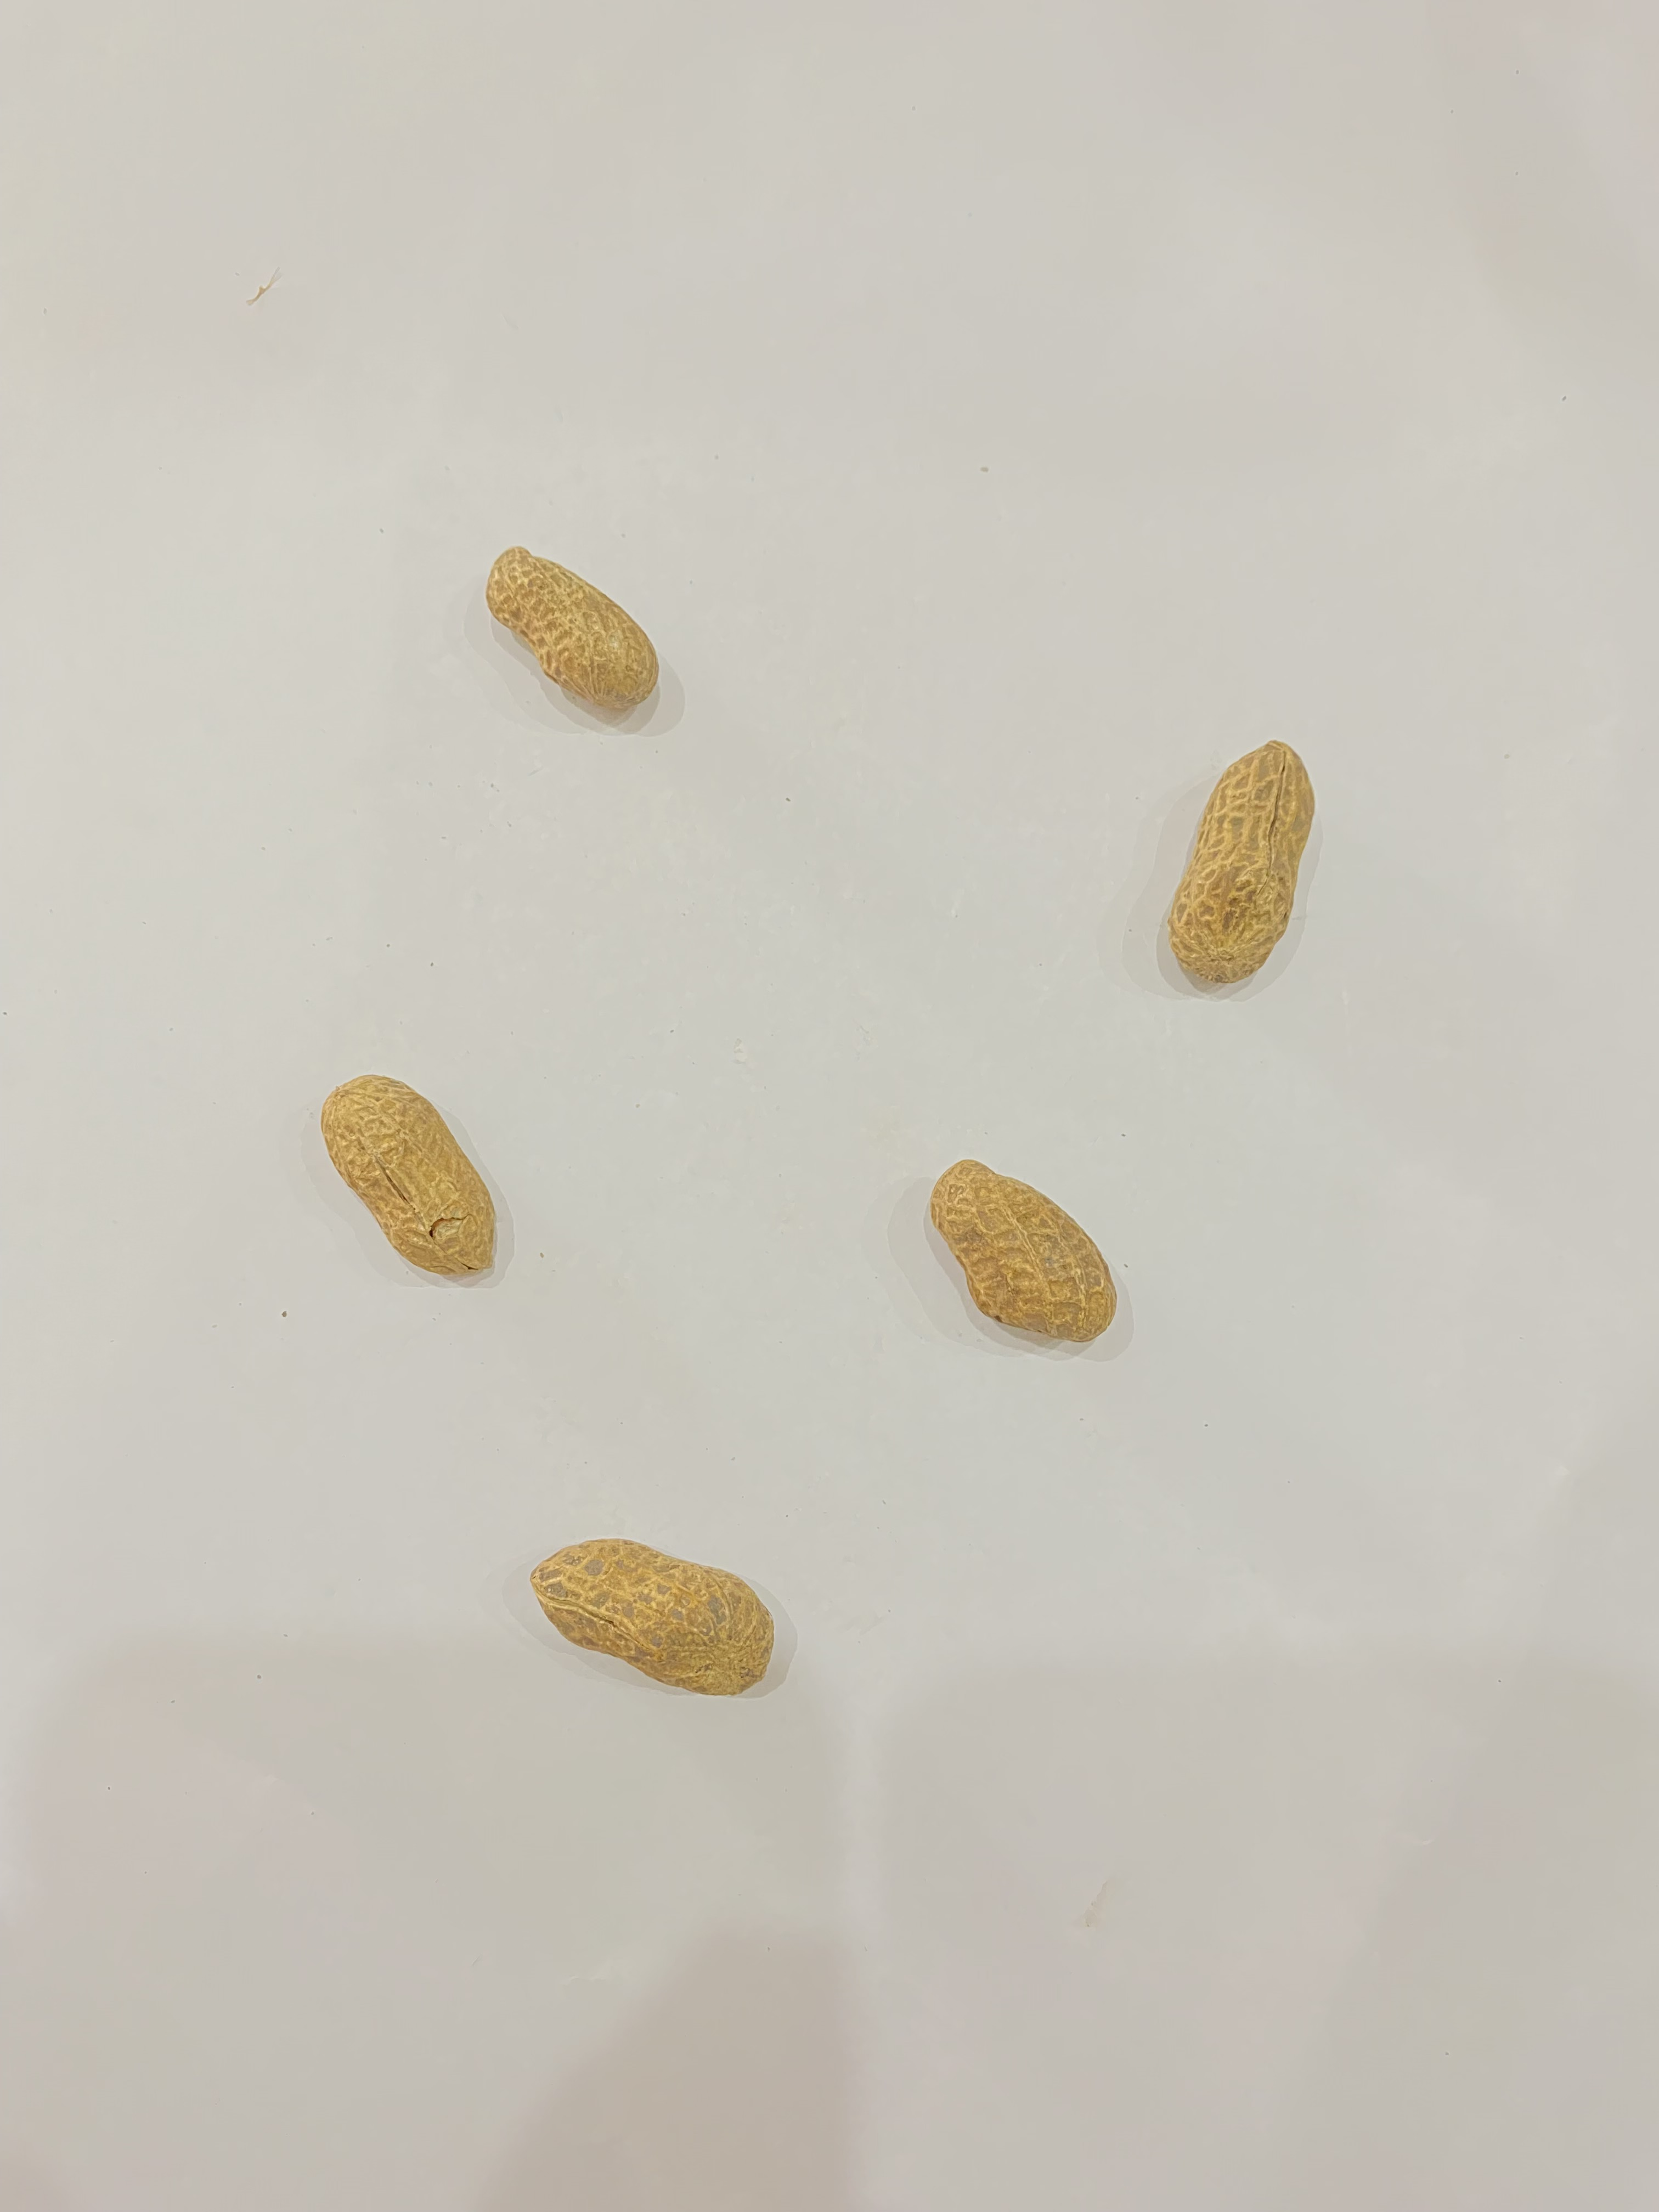kacang1: (906, 1158, 1131, 1341)
kacang2: (519, 1505, 789, 1714), (293, 1071, 511, 1284), (1166, 719, 1324, 991), (481, 543, 659, 721)
